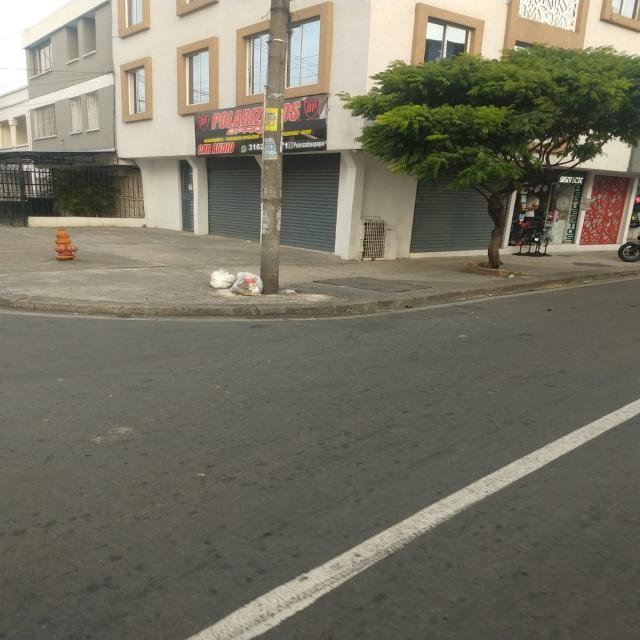Garbage_Bag: (230, 272, 263, 298), (208, 267, 234, 287)
